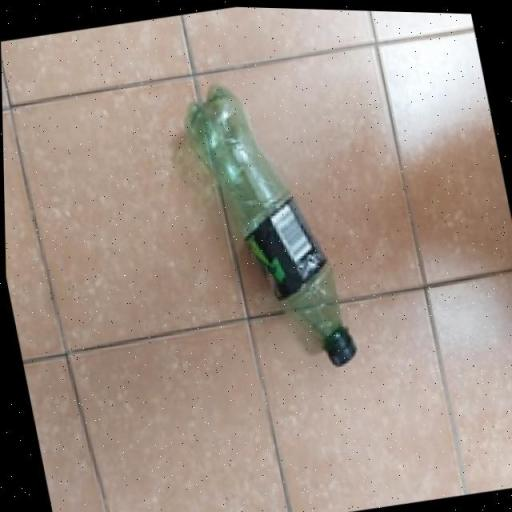plastic: (184, 84, 358, 367)
